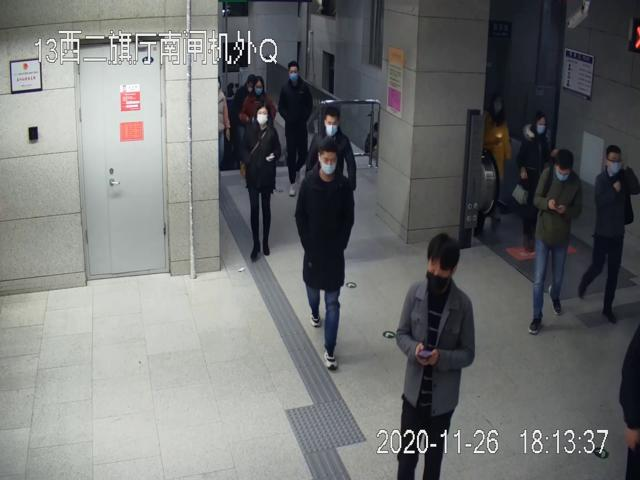person: (397, 234, 475, 480), (295, 141, 354, 368), (580, 143, 639, 323), (528, 149, 581, 334), (238, 102, 281, 260), (279, 59, 312, 195)
